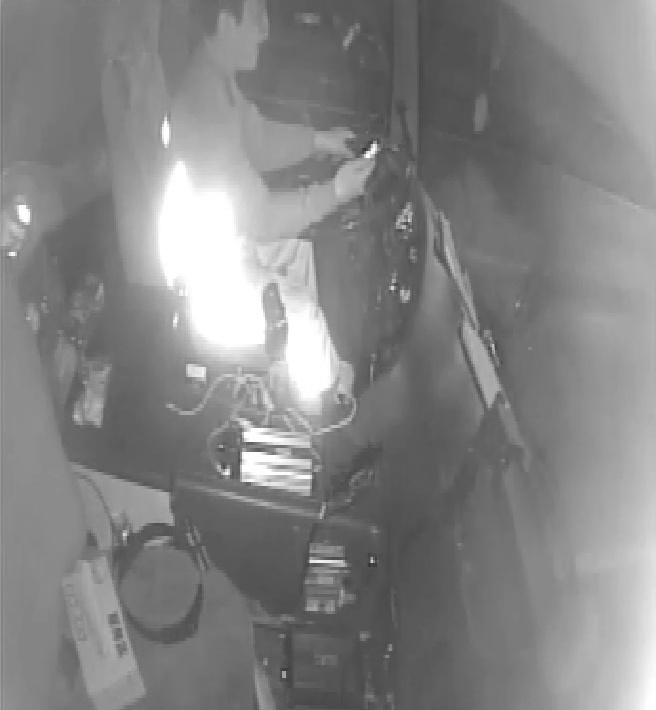cellphone: (348, 137, 382, 170)
